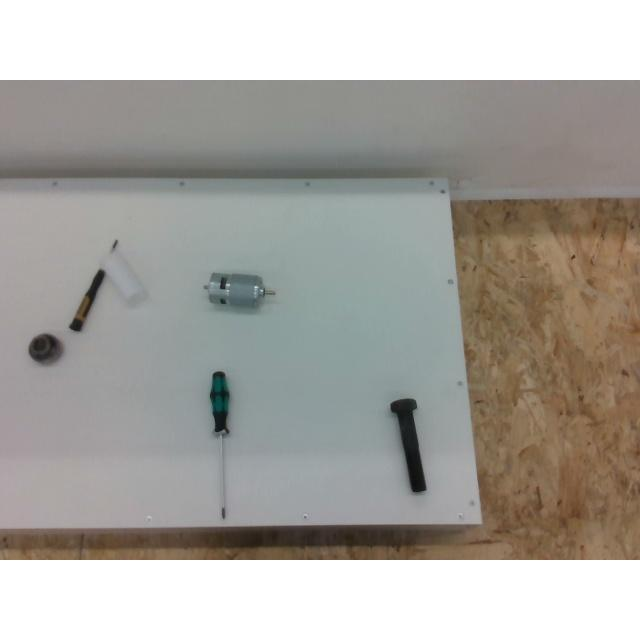Bearing2: (28, 333, 64, 365)
M20_100: (390, 398, 426, 492)
Motor2: (204, 272, 274, 308)
Screwdriver: (210, 371, 230, 519)
Spacer: (101, 248, 147, 304)
